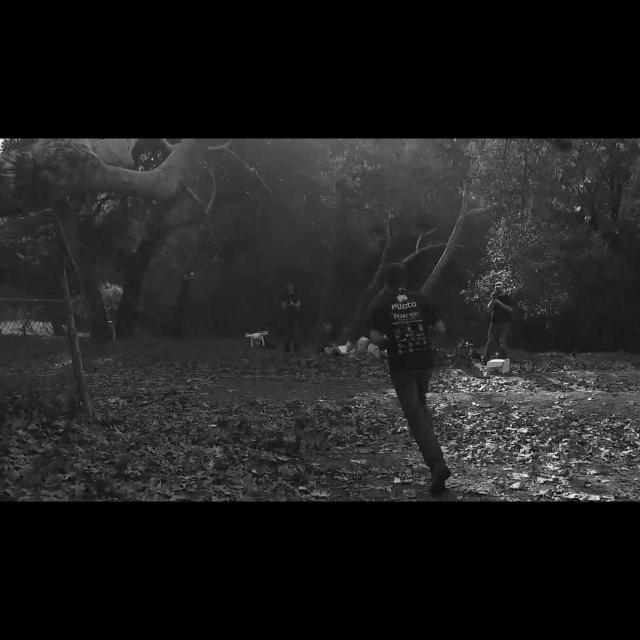Drons: (243, 329, 270, 347)
